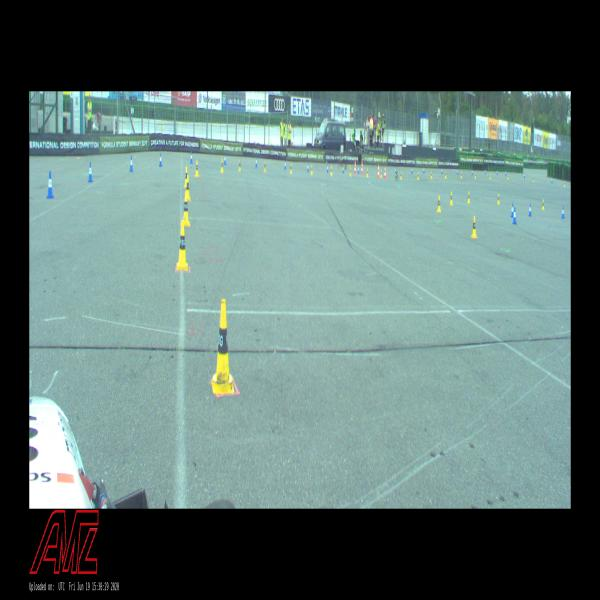blue_cone: (46, 171, 54, 198), (88, 162, 93, 182), (129, 156, 134, 171), (512, 207, 516, 224), (528, 203, 532, 216), (159, 154, 163, 166), (561, 207, 565, 218), (511, 203, 514, 217), (190, 151, 193, 164), (224, 154, 227, 165), (284, 160, 287, 170), (255, 157, 258, 167), (326, 164, 328, 173), (307, 163, 309, 172), (358, 166, 360, 174), (471, 169, 473, 176), (551, 176, 553, 183), (440, 167, 442, 174), (411, 167, 413, 174), (342, 166, 344, 173), (505, 170, 507, 176), (484, 169, 486, 174), (496, 170, 498, 174), (524, 172, 525, 178), (423, 168, 424, 174), (395, 167, 396, 173), (457, 170, 458, 174)
large_orange_cone: (377, 164, 380, 178), (354, 160, 356, 174), (361, 161, 363, 174), (384, 166, 386, 178)
yellow_cone: (212, 300, 234, 394), (177, 221, 188, 270), (183, 192, 190, 225), (471, 216, 477, 238), (186, 176, 191, 200), (184, 166, 188, 187), (195, 160, 199, 177), (436, 196, 440, 212), (220, 158, 224, 173), (450, 191, 453, 206), (238, 159, 241, 172), (290, 163, 293, 174), (467, 192, 470, 203), (497, 194, 500, 204), (349, 168, 352, 176), (264, 161, 266, 172), (542, 199, 544, 210), (444, 171, 447, 178), (330, 166, 332, 176), (311, 165, 313, 175), (366, 168, 368, 177), (380, 169, 382, 178), (417, 172, 419, 180), (400, 171, 402, 179), (474, 172, 476, 179), (507, 174, 509, 180), (532, 176, 534, 182), (564, 181, 566, 187), (489, 173, 491, 179), (431, 171, 432, 179), (461, 172, 462, 178)
